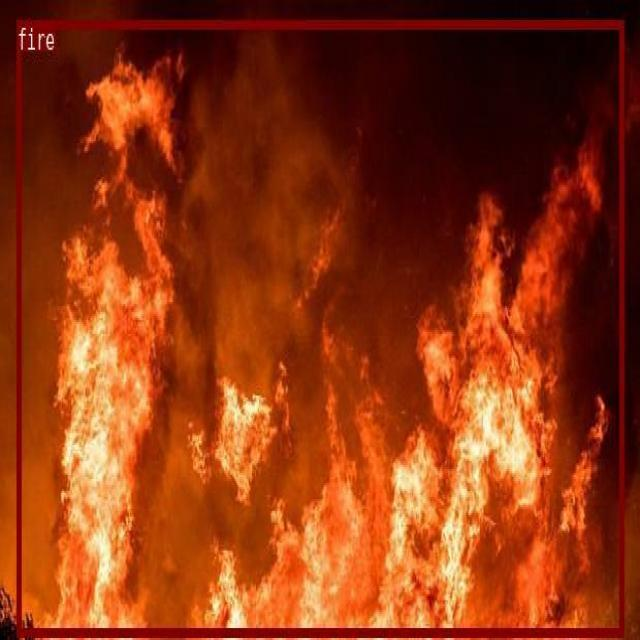fire: (16, 19, 622, 634)
